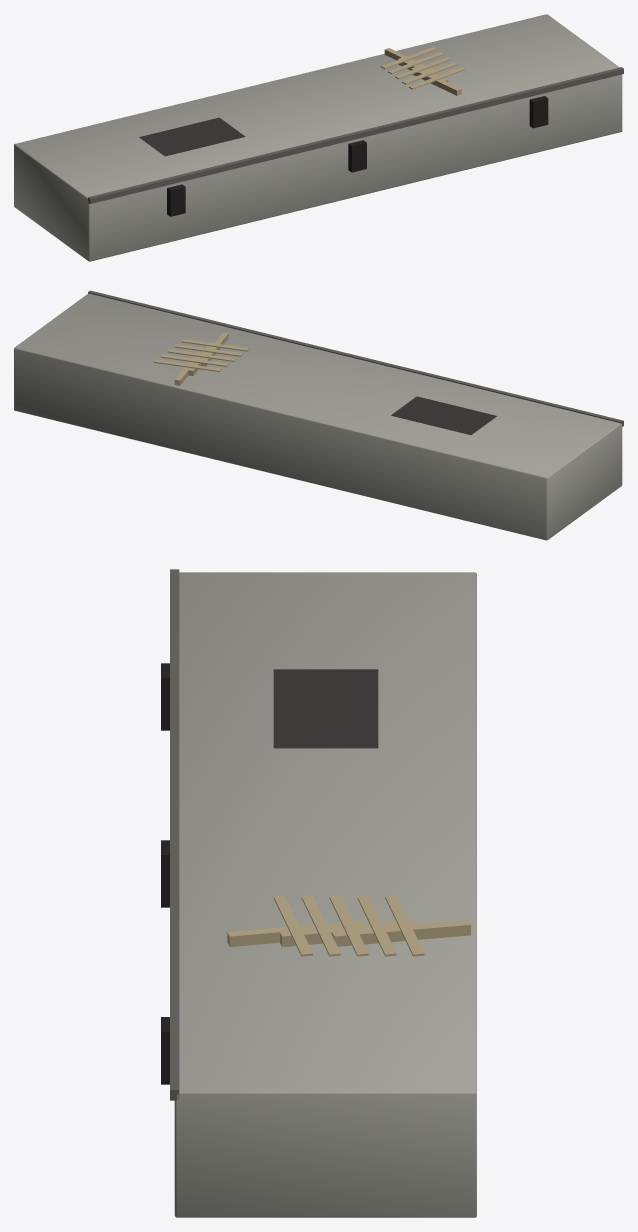
File: cover_dock.glb
The picture shows the model from 3 angles, top to bottom: view 1: azimuth 30°, elevation 25°; view 2: azimuth 150°, elevation 25°; view 3: azimuth 270°, elevation 25°; orthographic projection. The views are drawn at different scales.
Visible parts, largest first — view 1: deck, nosing, stain, bumper_3.6, bumper_-3.6, bumper_0; view 2: deck, stain, nosing; view 3: deck, stain, nosing, pallet_b2, pallet_b0.
Boxes of the visible parts, bbox=[...] form: deck: bbox=[14, 14, 622, 261]; nosing: bbox=[88, 67, 623, 203]; stain: bbox=[139, 117, 245, 156]; bumper_3.6: bbox=[529, 96, 548, 128]; bumper_-3.6: bbox=[167, 184, 185, 216]; bumper_0: bbox=[348, 140, 366, 172]; deck: bbox=[14, 293, 622, 540]; stain: bbox=[391, 396, 496, 434]; nosing: bbox=[88, 290, 623, 426]; deck: bbox=[174, 572, 476, 1217]; stain: bbox=[273, 669, 378, 748]; nosing: bbox=[170, 569, 179, 1100]; pallet_b2: bbox=[332, 920, 470, 946]; pallet_b0: bbox=[227, 920, 366, 946].
Bounding box in the file's own units: 10.6 × 1.34 × 2.72.
